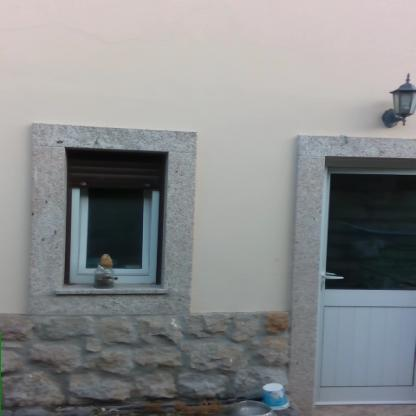closed: (293, 126, 416, 412)
